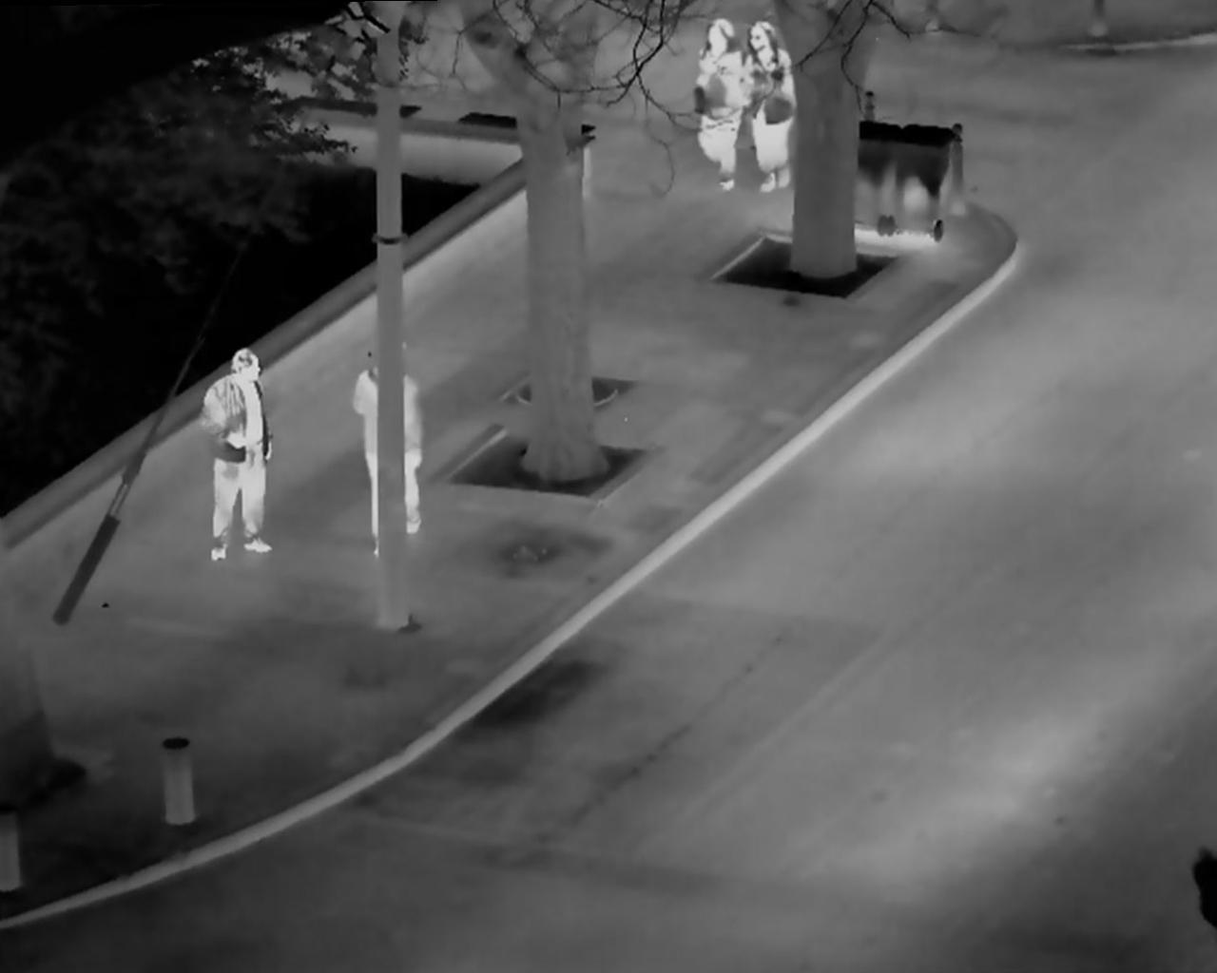person: (344, 326, 442, 568), (199, 334, 290, 566), (734, 9, 807, 192), (688, 9, 745, 195)
